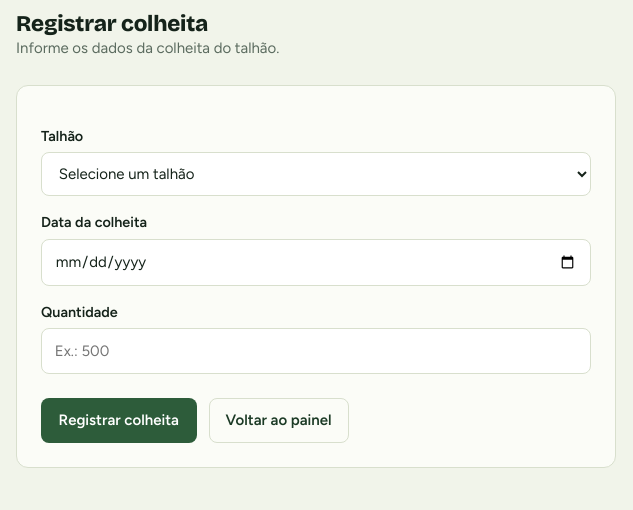
Test: RegistrarColheita - UI03 › exige a seleção de um talhão
The width and height of the screenshot is (633, 510).
Expected: the dropdown labelled "Talhão" is shown, [41,152,591,196]
Type "2026-11-26" into the date field labelled "Data da colheita" at {"x": 316, "y": 262}, box [41,239,591,286]
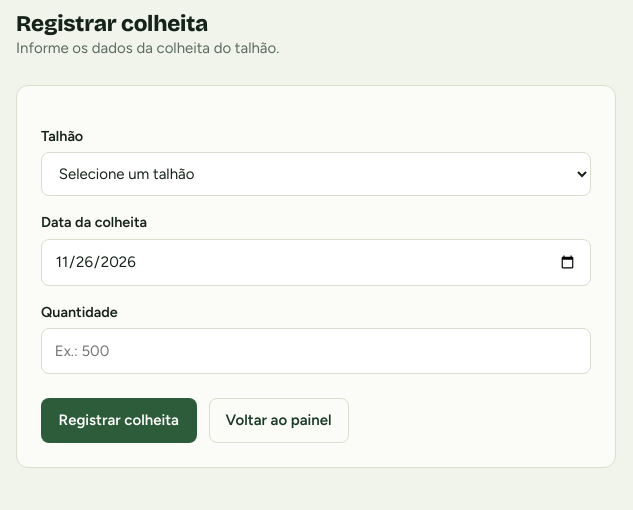
Type "500" into the number field labelled "Quantidade" at {"x": 316, "y": 351}, box [41,328,591,374]
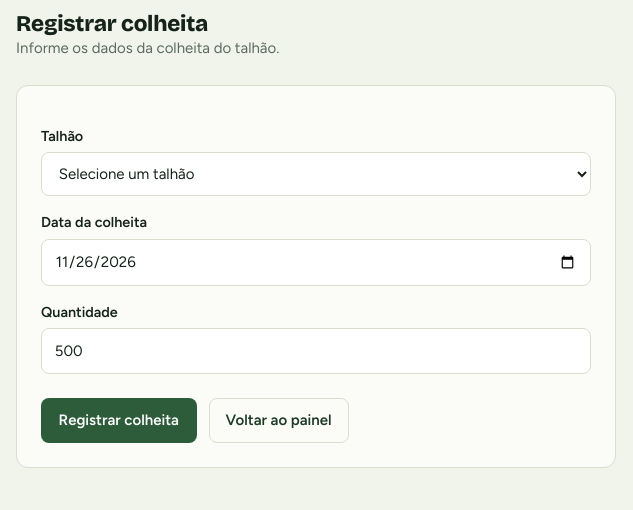
Click the button "Registrar colheita" at {"x": 119, "y": 420}, box [41,398,196,443]
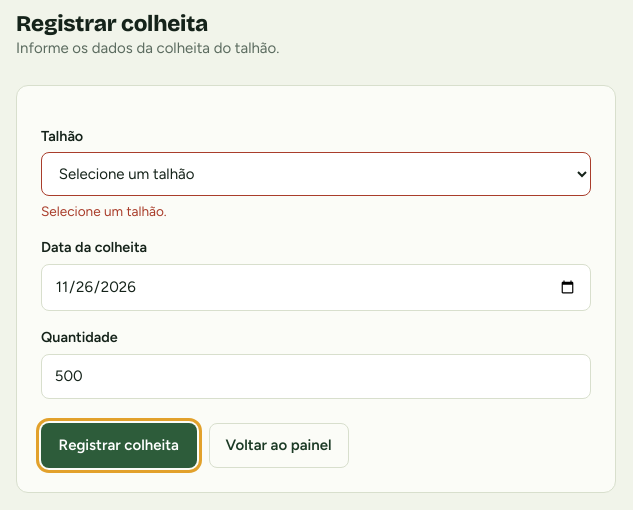
Expected: the text "Selecione um talhão." is shown, [41,203,167,219]
